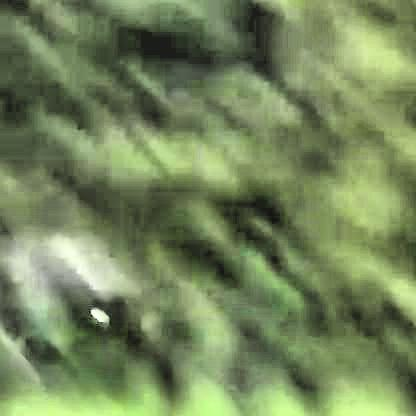golfball: (88, 307, 110, 325)
